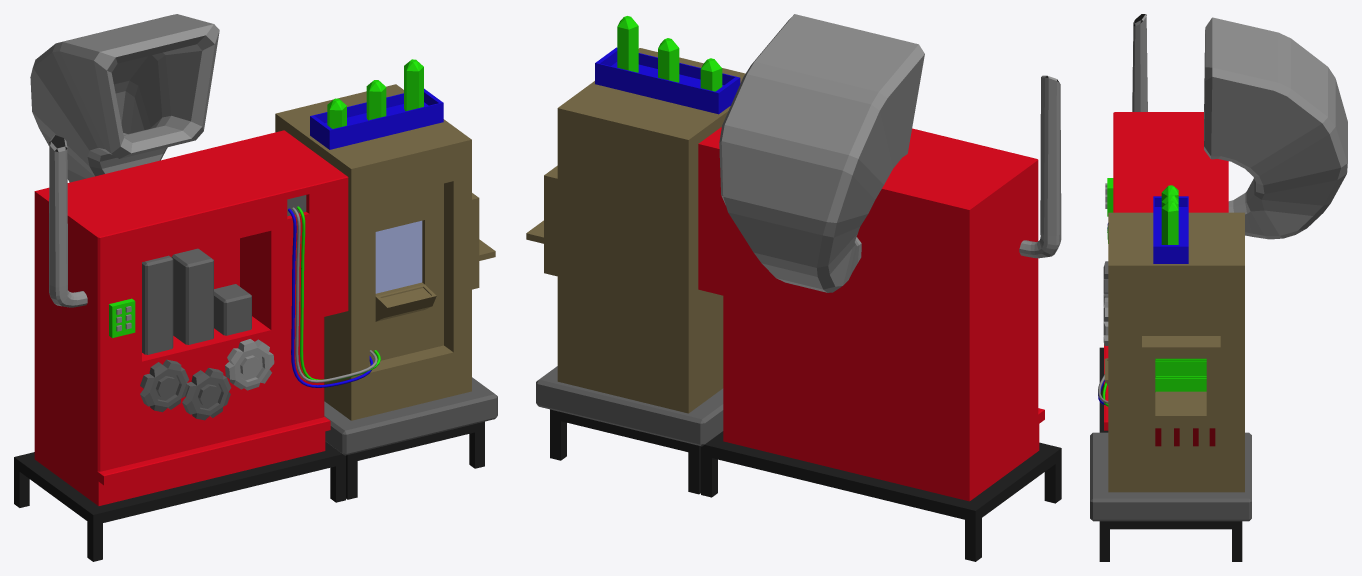
Rendered from production_machine.fbx.
The picture shows the model from 3 angles, left to right: view 1: azimuth 30°, elevation 25°; view 2: azimuth 150°, elevation 25°; view 3: azimuth 270°, elevation 25°; orthographic projection. The views are drawn at different scales.
Visible parts, largest first — view 1: Cube.002, Cube.003, Cube.001, Cube.007, Cube.009, Cylinder.003, Cube.008, Cube, Cylinder, Cylinder.002, Cylinder.001, Cube.006 (+5 smaller); view 2: Cube.002, Cube.003, Cube.001, Cube.007, Cylinder.003, Cube, Cylinder.006, Cylinder.005; view 3: Cube.002, Cube.003, Cube.001, Cube, Cube.004, Cube.007, Cylinder.003, Cylinder.006.
Part boxes in pixels (<box>): Cube.002: <box>14,84,495,561</box>; Cube.003: <box>30,14,219,182</box>; Cube.001: <box>324,377,497,455</box>; Cube.007: <box>310,88,443,149</box>; Cube.009: <box>171,248,213,344</box>; Cylinder.003: <box>49,135,87,307</box>; Cube.008: <box>142,255,173,354</box>; Cube: <box>346,421,484,499</box>; Cylinder: <box>140,359,189,412</box>; Cylinder.002: <box>225,339,274,390</box>; Cylinder.001: <box>182,368,231,420</box>; Cube.006: <box>214,284,251,335</box>; Cube.002: <box>526,48,1061,561</box>; Cube.003: <box>719,14,924,292</box>; Cube.001: <box>536,366,723,446</box>; Cube.007: <box>595,47,740,114</box>; Cylinder.003: <box>1019,75,1061,258</box>; Cube: <box>550,409,700,494</box>; Cylinder.006: <box>617,16,638,72</box>; Cylinder.005: <box>658,38,679,82</box>; Cube.002: <box>1099,112,1244,492</box>; Cube.003: <box>1204,17,1347,239</box>; Cube.001: <box>1090,432,1251,521</box>; Cube: <box>1099,521,1242,561</box>; Cube.004: <box>1155,358,1206,392</box>; Cube.007: <box>1153,196,1188,263</box>; Cylinder.003: <box>1132,14,1147,111</box>; Cylinder.006: <box>1161,200,1178,244</box>.
Bounding box in the file's own units: 662 × 623 × 362.
